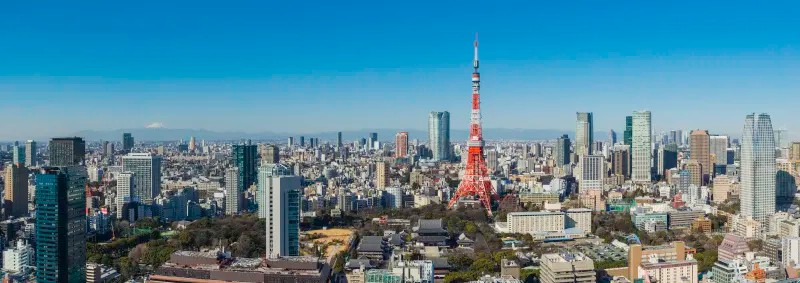Tokyo: (444, 39, 503, 221)
